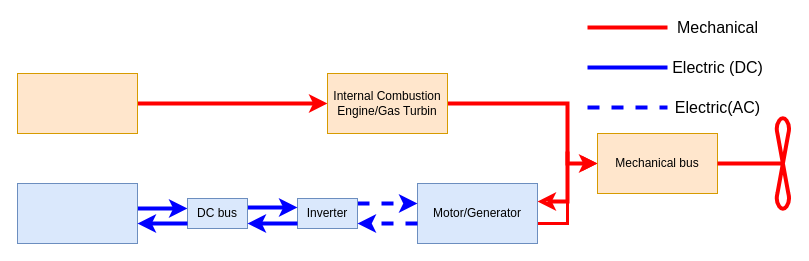
This 809x261 diagram has some shape labels left out. The centre of each missing label's shape, as x and y in pixels:
Battery: point 77,213
Fuel tank: point 77,103
